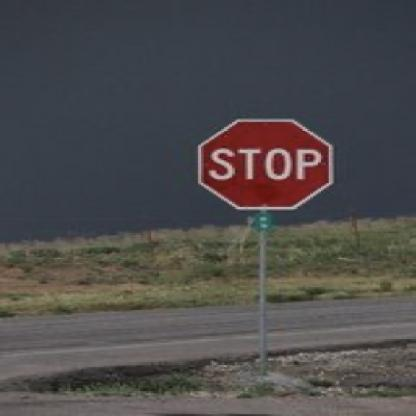Stop: (196, 117, 336, 212)
